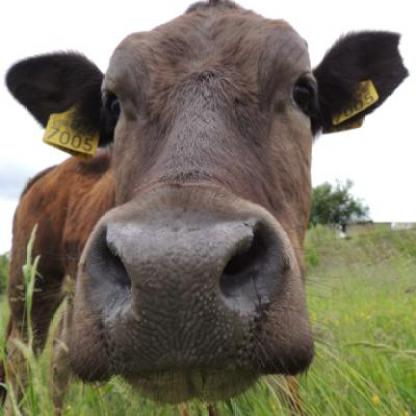lower: (130, 378, 251, 399)
mouth: (70, 191, 316, 401)
upper: (140, 254, 209, 299)
